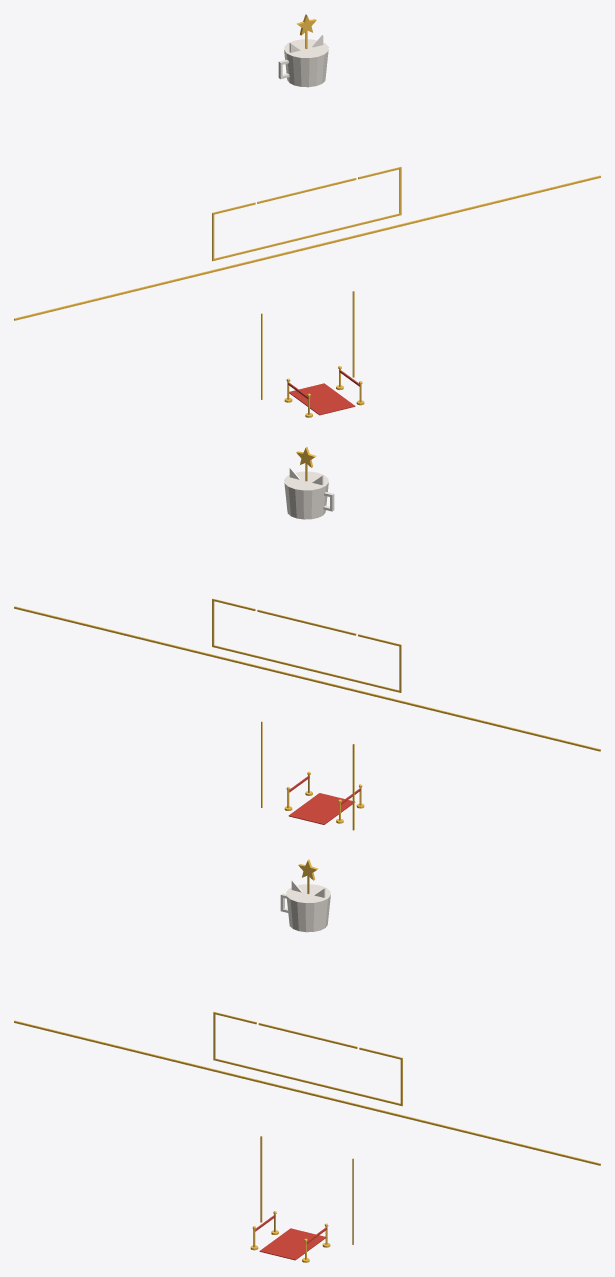
Rendered from CatCafe_Plot_Tier5_52x40.glb.
The picture shows the model from 3 angles, top to bottom: view 1: azimuth 30°, elevation 25°; view 2: azimuth 150°, elevation 25°; view 3: azimuth 330°, elevation 25°; orthographic projection.
Visible parts, largest first — view 1: CatCafe_Plot_Tier5_52x40; view 2: CatCafe_Plot_Tier5_52x40; view 3: CatCafe_Plot_Tier5_52x40.
Part boxes in pixels (x1,y1,x2,y2): CatCafe_Plot_Tier5_52x40: [14, 14, 600, 417]; CatCafe_Plot_Tier5_52x40: [14, 447, 600, 830]; CatCafe_Plot_Tier5_52x40: [14, 859, 600, 1262].
Size of the model in its own units: 52.4 by 31.98 by 6.55.
1 material, 1 textured.
